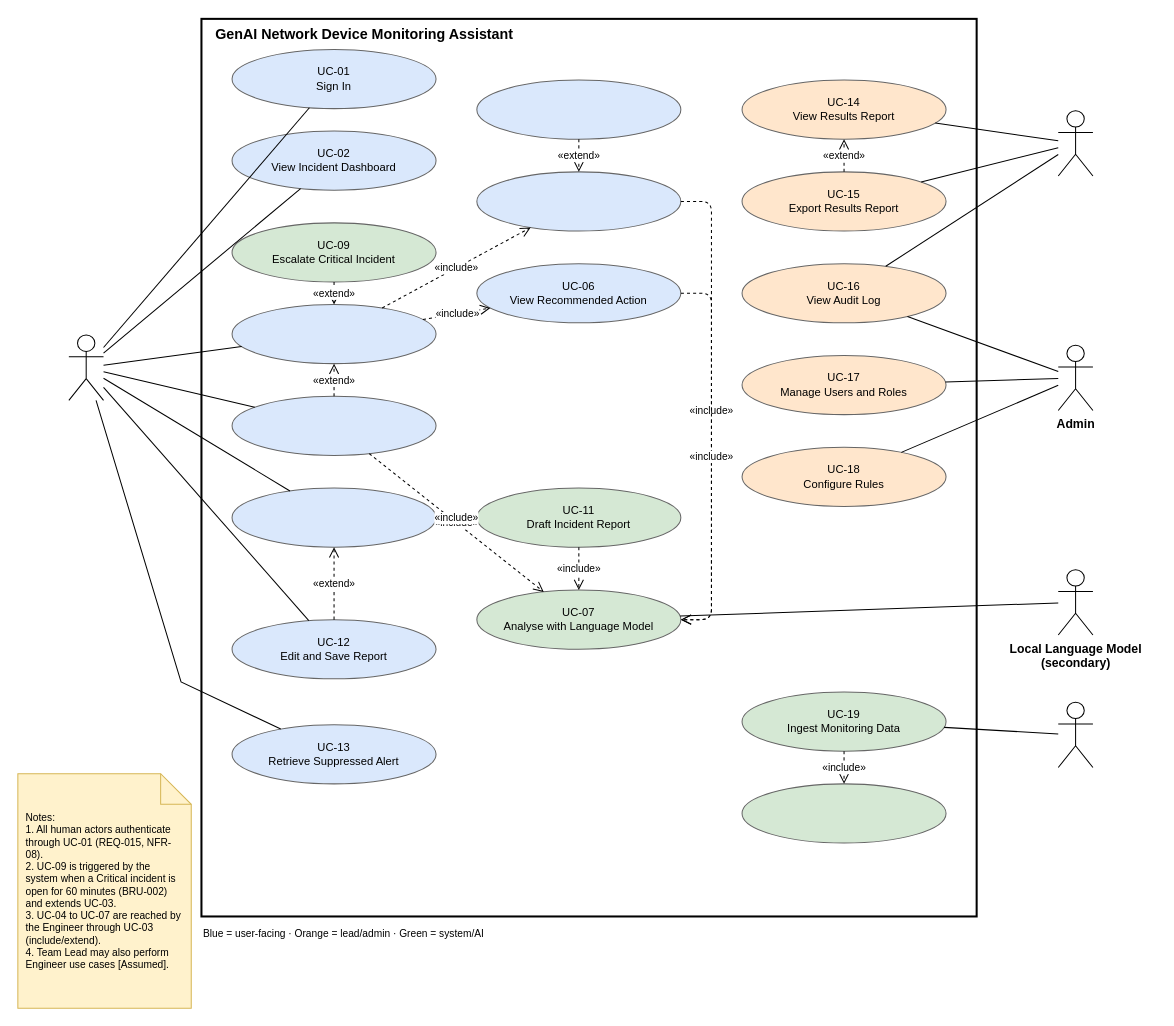
Some shapes in this 1174 by 1026 pixel diagram are drawn without their labels. The centre of each missing label's shape, as x and y in pixels:
Existing Monitoring System (secondary): point 1075,734
NOC Engineer: point 86,367
Team Lead: point 1075,143
UC-03 Review Incident Detail: point 333,333
UC-04 View Ranked Causes: point 578,201
UC-05 Give Cause Feedback: point 578,109
UC-08 Ask Incident Chat: point 333,425
UC-10 Confirm Recovery and Close Incident: point 333,517
UC-20 Correlate Alerts into Incidents: point 843,813
